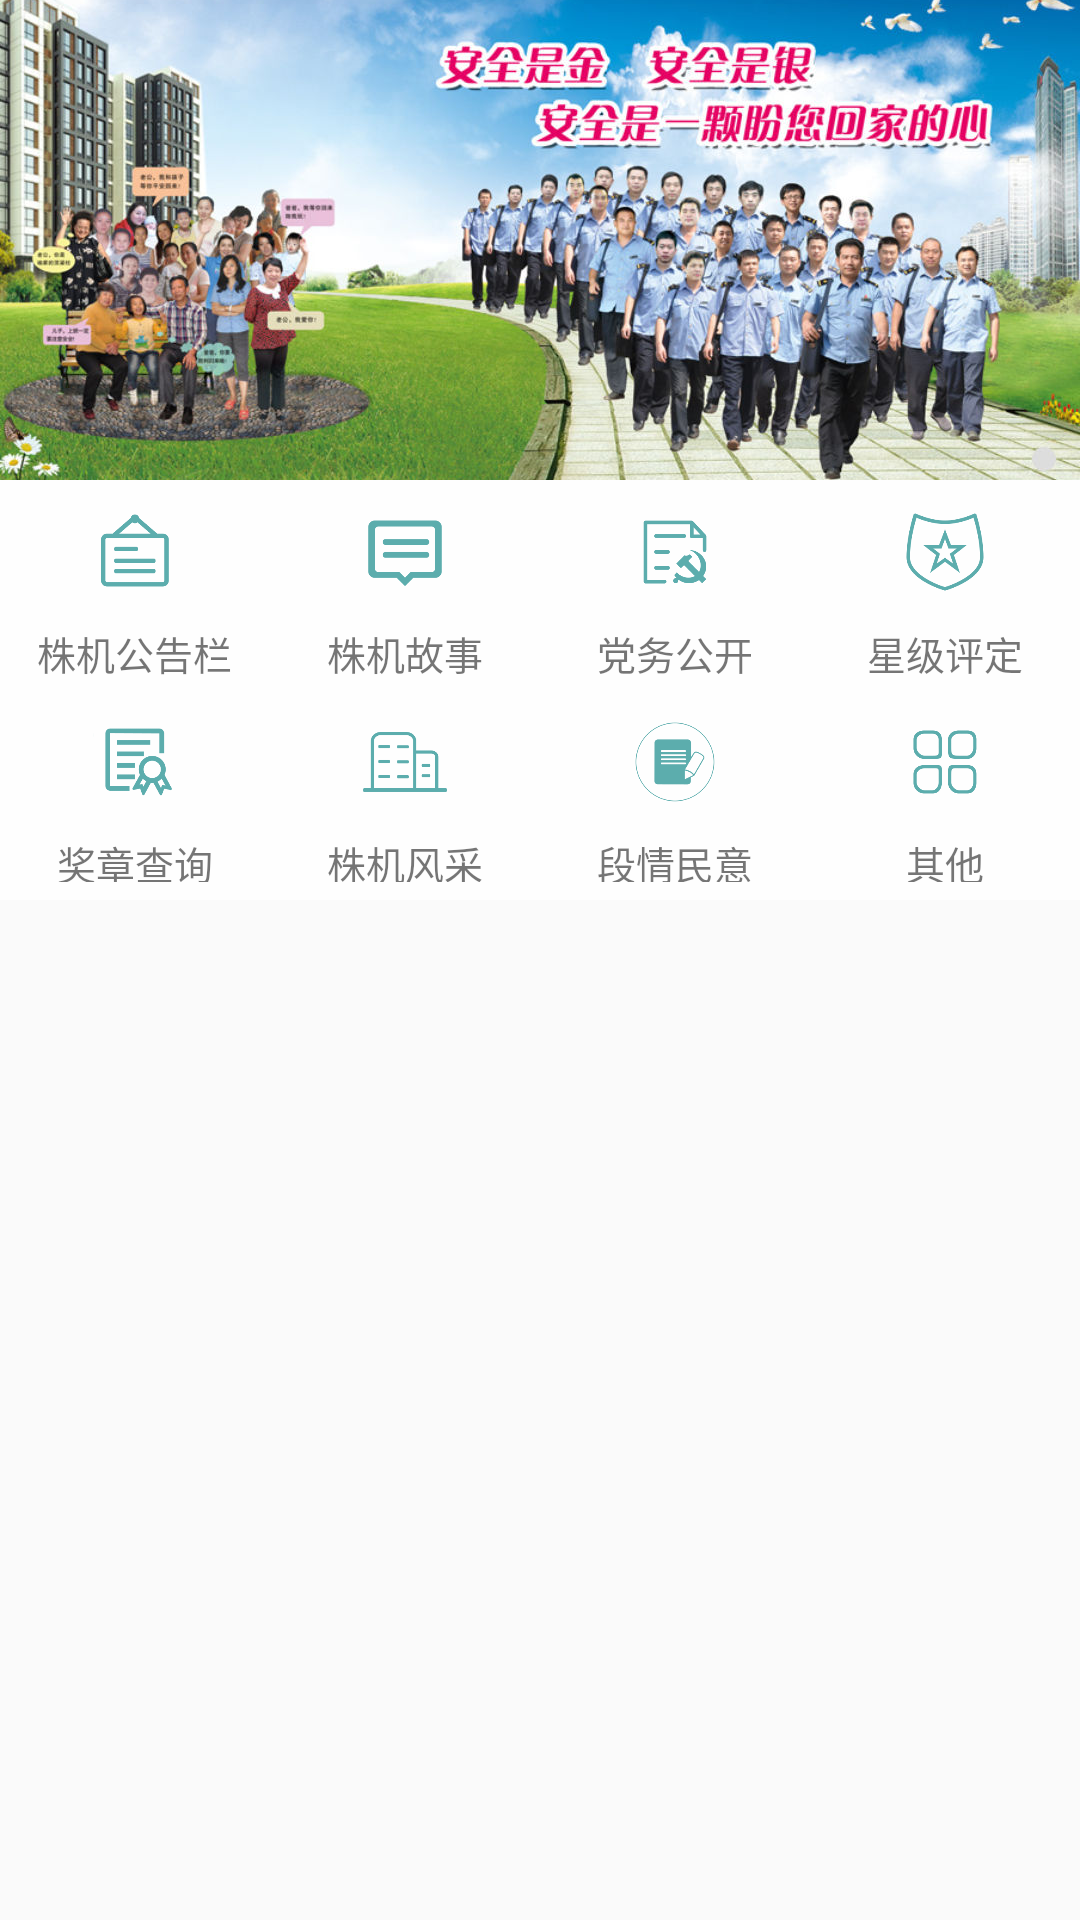

Icons on this 1080w x 1920h Android screen, each with the point to tap as (x=x, y=y):
jiangzhang: (x=138, y=761)
notice: (x=135, y=550)
others: (x=945, y=762)
xingji: (x=945, y=552)
